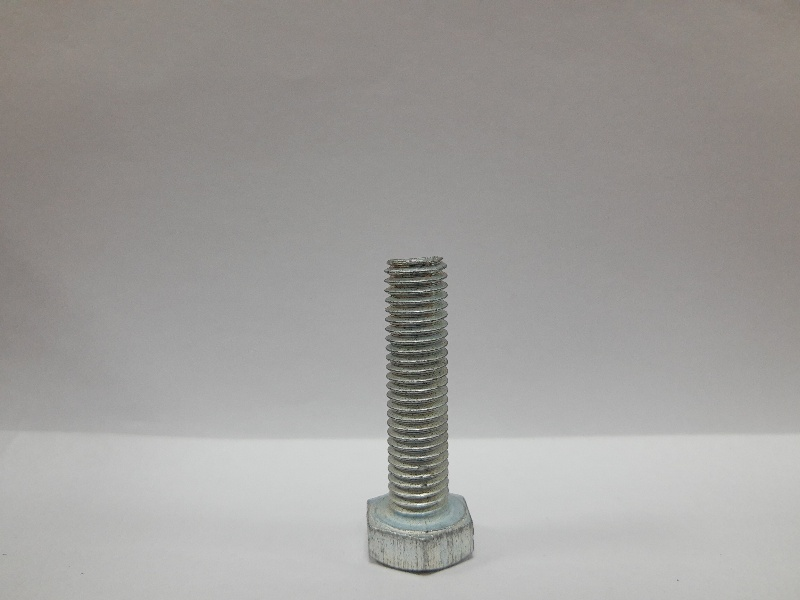pf: (355, 252, 487, 574)
